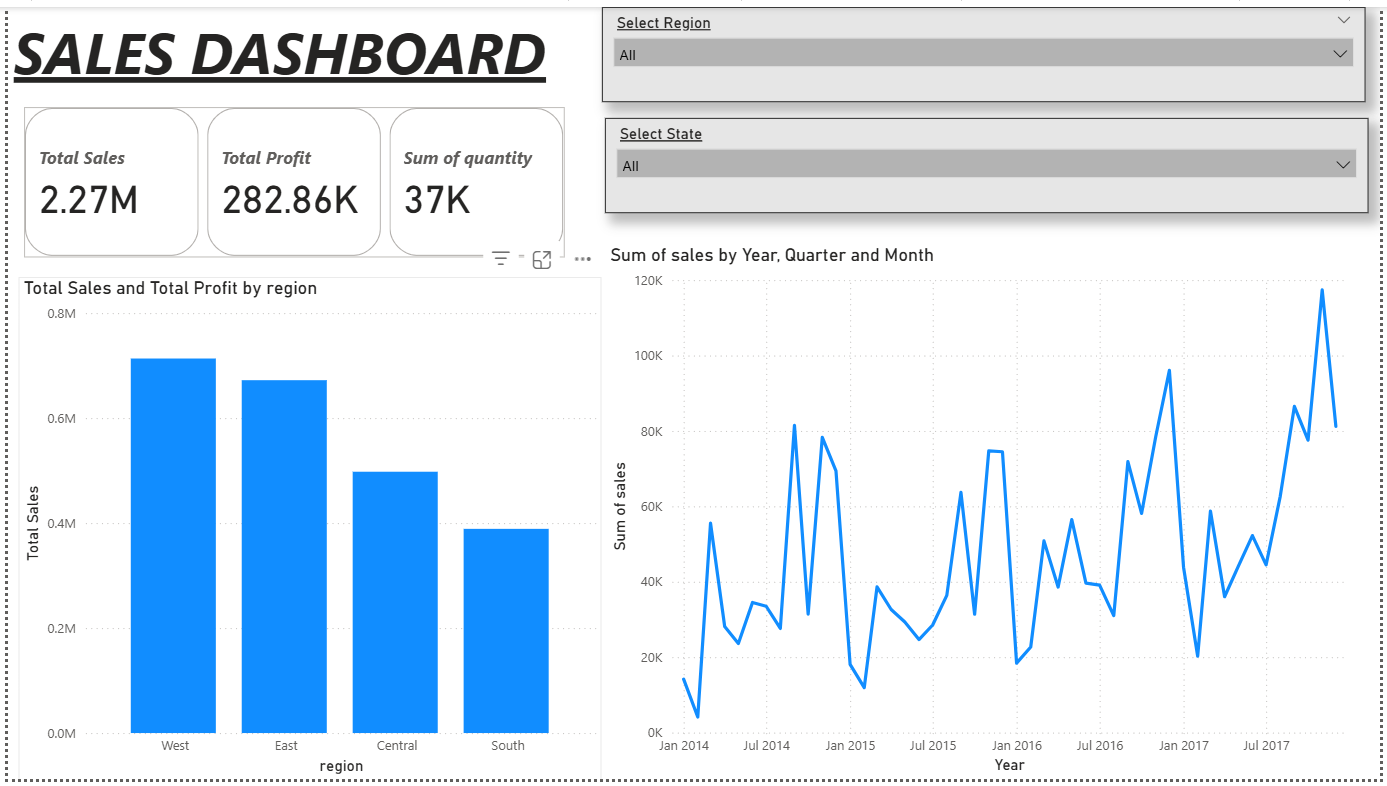

The page's visual inventory and layout, read from the dashboard file:
{"tool":"powerbi","page":{"name":"Sales_Dashboard","canvas":[1280,720],"ordinal":0},"visuals":[{"type":"textbox","box":[10.6,0,490.6,112.1],"z":0},{"type":"textbox","box":[0,0,526,88],"z":1000},{"type":"slicer","title":"ok","fields":{"Values":["superstore_project orders.region"]},"box":[553.3,0,711.7,88.3],"z":2000},{"type":"cardVisual","fields":{"Data":["superstore_project sales.Total Sales","superstore_project sales.Total Profit","Sum(superstore_project sales.quantity)"]},"box":[10,88.3,516.7,150],"z":3000},{"type":"slicer","title":"ok","fields":{"Values":["superstore_project orders.state"]},"box":[556.7,103.3,711.7,88.3],"z":4000},{"type":"columnChart","fields":{"Category":["superstore_project orders.region"],"Y":["superstore_project sales.Total Sales"]},"box":[10,252,544,468],"z":5000},{"type":"lineChart","fields":{"Category":["superstore_project orders.order_date.Variation.Date Hierarchy.Year","superstore_project orders.order_date.Variation.Date Hierarchy.Quarter","superstore_project orders.order_date.Variation.Date Hierarchy.Month","superstore_project orders.order_date.Variation.Date Hierarchy.Day"],"Y":["Sum(superstore_project sales.sales)"]},"box":[556.7,221.7,708.3,498.3],"z":6000}]}

Visuals, with their boxes in screenshot pixels (x1, y1, x2, y2), scaled from the page's 1280x720 canvas onto the 1387x786 screenshot:
textbox: select_region(11, 0, 543, 122)
textbox: select_region(0, 0, 570, 96)
"ok" slicer: select_region(600, 0, 1371, 96)
cardVisual - superstore_project sales.Total Sales x superstore_project sales.Total Profit: select_region(11, 96, 571, 260)
"ok" slicer: select_region(603, 113, 1374, 209)
columnChart - superstore_project orders.region x superstore_project sales.Total Sales: select_region(11, 275, 600, 785)
lineChart - superstore_project orders.order_date.Variation.Date Hierarchy.Year x superstore_project orders.order_date.Variation.Date Hierarchy.Quarter: select_region(603, 242, 1371, 785)
